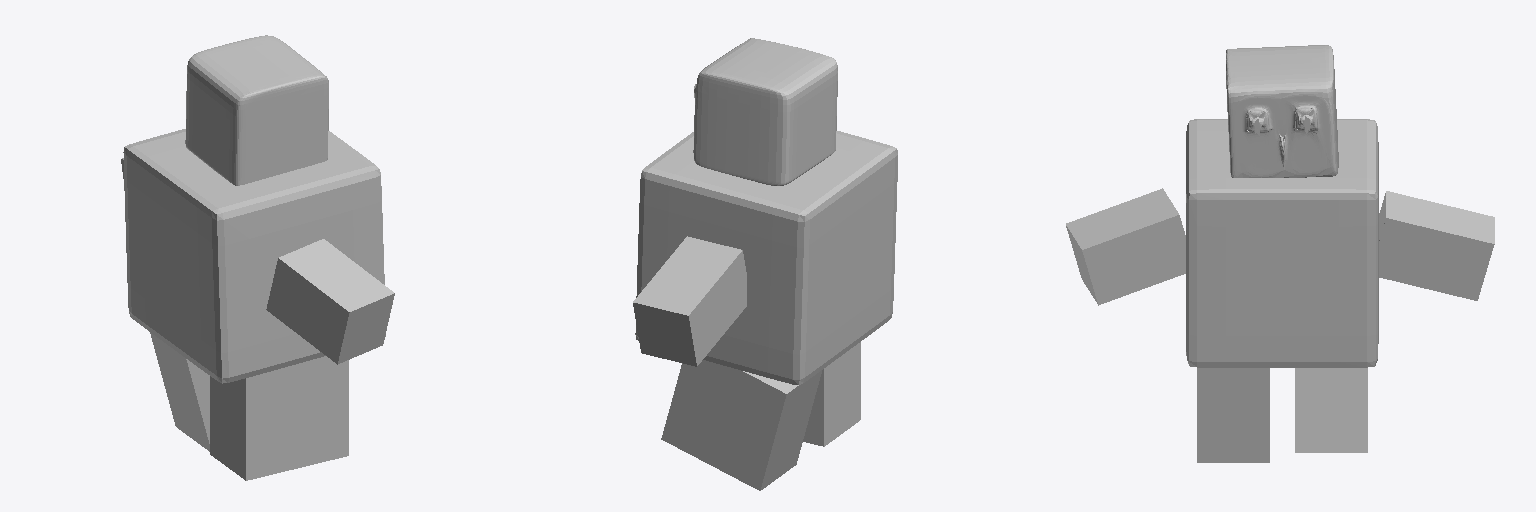
The picture shows the model from 3 angles: view 1: azimuth 30°, elevation 25°; view 2: azimuth 150°, elevation 25°; view 3: azimuth 270°, elevation 25°; orthographic projection.
Parts seen in each view (by area): view 1: Cube_Cube.001, Cube.001_Cube.002, Cube.002_Cube.003, Cube.005_Cube.007, Cube.003_Cube.004; view 2: Cube_Cube.001, Cube.001_Cube.002, Cube.003_Cube.004, Cube.004_Cube.005, Cube.002_Cube.003; view 3: Cube_Cube.001, Cube.001_Cube.002, Cube.004_Cube.005, Cube.005_Cube.007, Cube.002_Cube.003, Cube.003_Cube.004.
Part boxes in pixels (x1,y1,x2,y2): Cube_Cube.001: (123, 129, 385, 383); Cube.001_Cube.002: (185, 35, 328, 185); Cube.002_Cube.003: (210, 356, 348, 480); Cube.005_Cube.007: (266, 239, 394, 364); Cube.003_Cube.004: (150, 332, 209, 451); Cube_Cube.001: (635, 131, 897, 384); Cube.001_Cube.002: (693, 38, 837, 185); Cube.003_Cube.004: (661, 360, 821, 490); Cube.004_Cube.005: (633, 236, 746, 366); Cube.002_Cube.003: (803, 342, 860, 446); Cube_Cube.001: (1186, 119, 1378, 367); Cube.001_Cube.002: (1226, 45, 1338, 177); Cube.004_Cube.005: (1379, 191, 1494, 300); Cube.005_Cube.007: (1066, 188, 1185, 305); Cube.002_Cube.003: (1197, 368, 1269, 462); Cube.003_Cube.004: (1295, 368, 1367, 452).
Bounding box in the file's own units: 1.5 × 3.24 × 3.24.